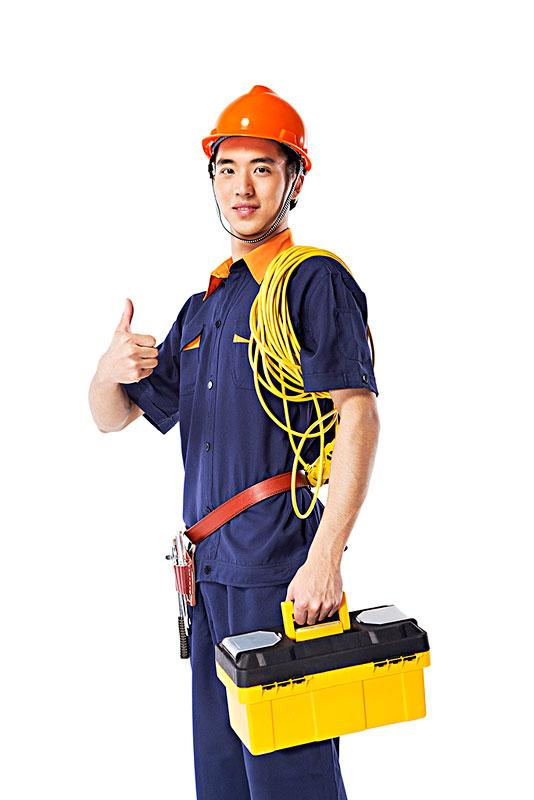helmet: (206, 86, 312, 176)
